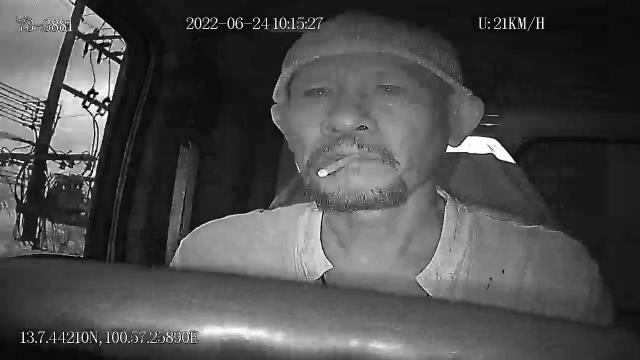SafeDriving: (292, 75, 342, 104), (368, 72, 412, 101)
Smoking: (318, 152, 362, 178)
